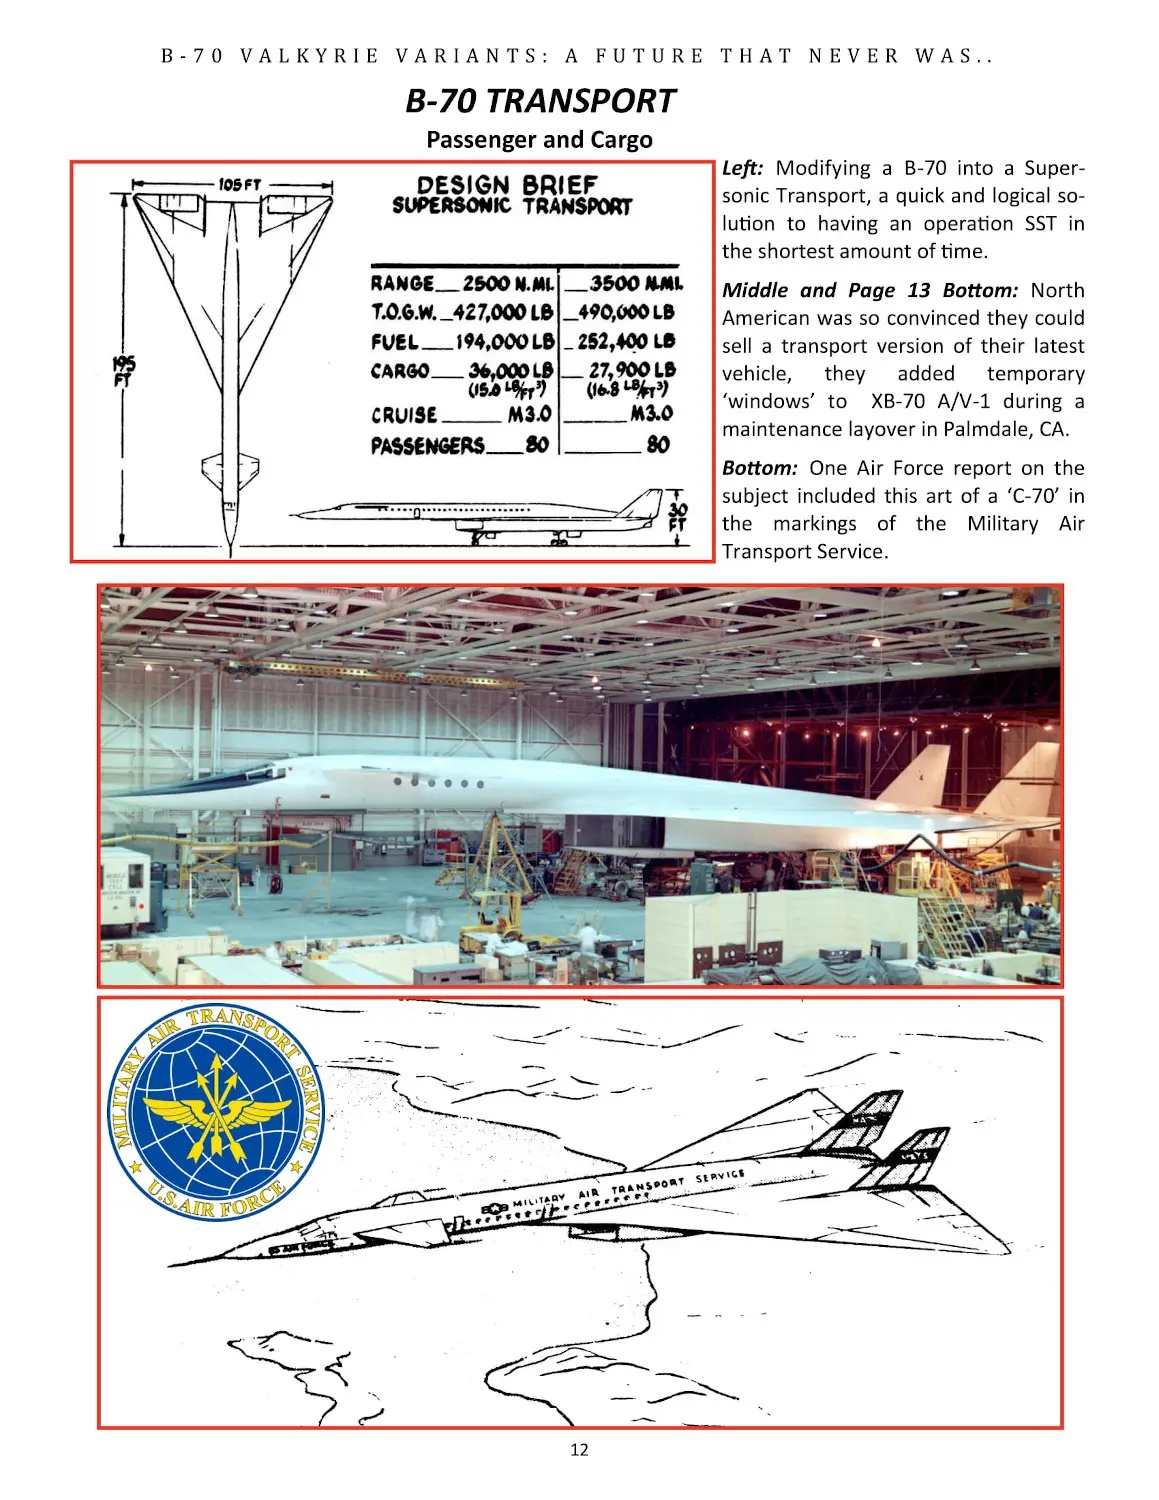airplane: (101, 741, 1060, 897)
